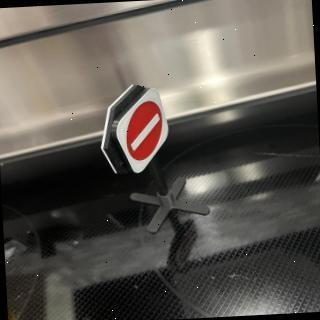sign_noentry: (111, 89, 172, 176)
